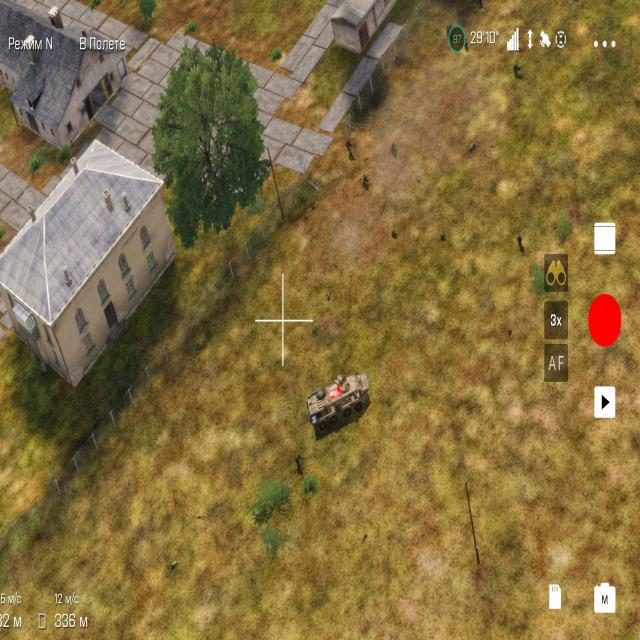fortification: (0, 152, 178, 377), (0, 1, 132, 140), (329, 0, 424, 53)
infantry: (511, 228, 536, 266), (500, 316, 518, 354), (286, 447, 307, 479), (505, 58, 529, 85), (460, 134, 480, 165), (356, 169, 376, 198), (432, 225, 452, 251), (162, 551, 184, 573), (342, 132, 356, 163), (411, 170, 426, 198), (389, 140, 403, 169), (386, 218, 401, 241)
vehicle: (303, 362, 376, 438)
